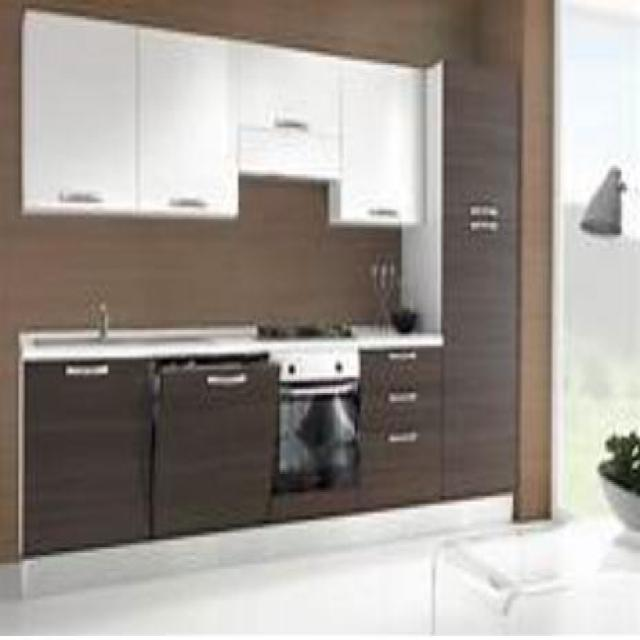dishwasher: (151, 354, 279, 537)
